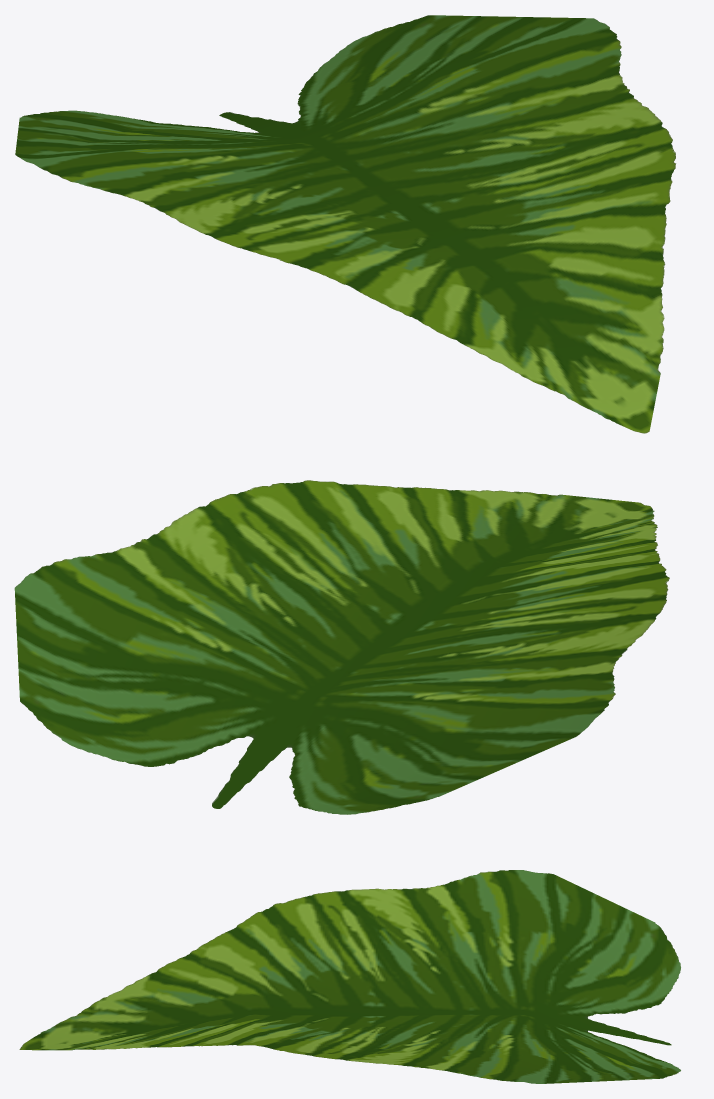
File: SM_FleurSpline_03.fbx
3 renders of one model, top to bottom at view 1: azimuth 30°, elevation 25°; view 2: azimuth 150°, elevation 25°; view 3: azimuth 270°, elevation 25°, orthographic. The views are drawn at different scales.
Visible parts, largest first — view 1: SM_FleurSpline_03; view 2: SM_FleurSpline_03; view 3: SM_FleurSpline_03.
Part boxes in pixels (bbox=[...]): SM_FleurSpline_03: bbox=[15, 15, 676, 433]; SM_FleurSpline_03: bbox=[14, 480, 669, 814]; SM_FleurSpline_03: bbox=[19, 870, 680, 1083].
Size of the model in its own units: 26.41 by 4.26 by 34.09.
1 material, 1 textured.
